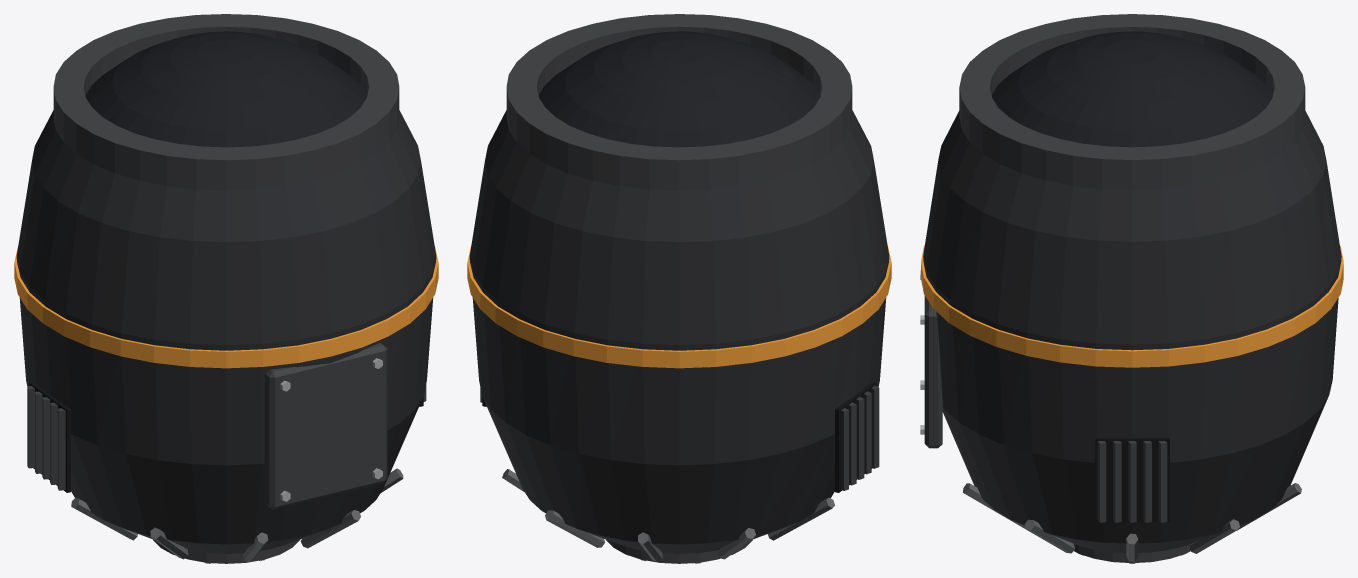
File: csc_razor_b1_head.obj
The picture shows the model from 3 angles, left to right: view 1: azimuth 30°, elevation 25°; view 2: azimuth 150°, elevation 25°; view 3: azimuth 270°, elevation 25°; orthographic projection.
Parts seen in each view (by area): view 1: head_csc_2f3033, head_csc_3f4043, head_csc_1d1f23, head_csc_f9a238, head_csc_616365, head_csc_161618; view 2: head_csc_2f3033, head_csc_3f4043, head_csc_1d1f23, head_csc_f9a238, head_csc_616365, head_csc_161618; view 3: head_csc_2f3033, head_csc_3f4043, head_csc_1d1f23, head_csc_f9a238, head_csc_161618, head_csc_616365.
Boxes of the visible parts, box(x1,y1,x2,y2) form: head_csc_2f3033: box(16, 110, 436, 553); head_csc_3f4043: box(27, 14, 426, 563); head_csc_1d1f23: box(85, 31, 367, 147); head_csc_f9a238: box(14, 246, 438, 368); head_csc_616365: box(71, 468, 403, 562); head_csc_161618: box(29, 382, 423, 492); head_csc_2f3033: box(469, 110, 889, 553); head_csc_3f4043: box(480, 14, 879, 563); head_csc_1d1f23: box(538, 31, 820, 147); head_csc_f9a238: box(467, 246, 891, 368); head_csc_616365: box(502, 469, 834, 562); head_csc_161618: box(482, 382, 876, 492); head_csc_2f3033: box(923, 111, 1341, 552); head_csc_3f4043: box(924, 14, 1305, 563); head_csc_1d1f23: box(991, 31, 1272, 147); head_csc_f9a238: box(921, 245, 1343, 367); head_csc_161618: box(1094, 437, 1169, 521); head_csc_616365: box(963, 483, 1301, 562).
Bounding box in the file's own units: 0.5446 × 0.6865 × 0.5446.
